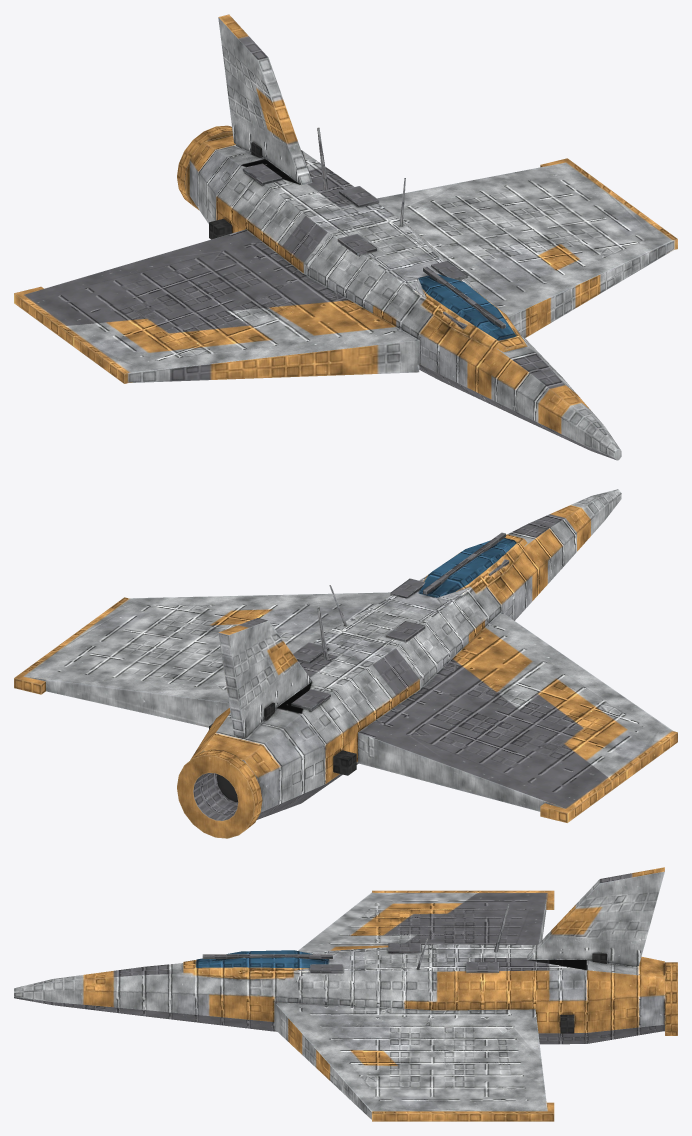
The model's file is sd_npc_courier.glb.
The picture shows the model from 3 angles, top to bottom: view 1: azimuth 30°, elevation 25°; view 2: azimuth 150°, elevation 25°; view 3: azimuth 270°, elevation 25°; orthographic projection. The views are drawn at different scales.
Visible parts, largest first — view 1: LOD0_body, LOD1_body; view 2: LOD0_body, LOD1_body; view 3: LOD0_body, LOD1_body.
Part boxes in pixels (x1=…): LOD0_body: x1=14, y1=14, x2=677, y2=460; LOD1_body: x1=14, y1=89, x2=676, y2=409; LOD0_body: x1=14, y1=489, x2=677, y2=838; LOD1_body: x1=14, y1=533, x2=672, y2=835; LOD0_body: x1=14, y1=867, x2=677, y2=1121; LOD1_body: x1=144, y1=886, x2=677, y2=1121.
Bounding box in the file's own units: 0.7941 × 0.2716 × 1.
Materials: 1 (1 with a texture image).
